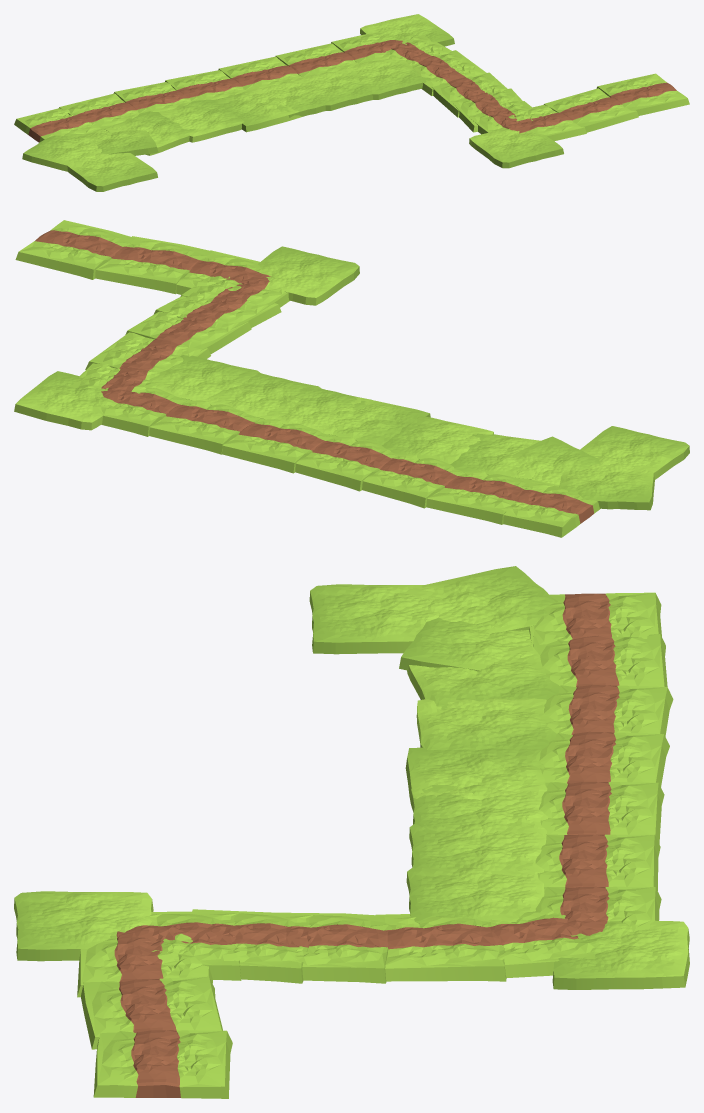
File: pathTest.glb
3 renders of one model, top to bottom at view 1: azimuth 30°, elevation 25°; view 2: azimuth 150°, elevation 25°; view 3: azimuth 270°, elevation 25°, orthographic. The views are drawn at different scales.
Visible parts, largest first — view 1: PP_Meadow_08.012, PP_Meadow_08.011, PP_Meadow_Path_05.038, PP_Meadow_Path_05.037, PP_Meadow_08.007, PP_Meadow_08.003, PP_Meadow_08.006, PP_Meadow_08.010, PP_Meadow_08.004, PP_Meadow_Path_05.024, PP_Meadow_08.002, PP_Meadow_Path_05.029 (+14 smaller); view 2: PP_Meadow_Path_05.038, PP_Meadow_Path_05.037, PP_Meadow_08.012, PP_Meadow_Path_05.029, PP_Meadow_Path_05.028, PP_Meadow_Path_05.024, PP_Meadow_08.002, PP_Meadow_Path_05.025, PP_Meadow_08.010, PP_Meadow_Path_05.027, PP_Meadow_08.011, PP_Meadow_Path_05.026 (+14 smaller); view 3: PP_Meadow_Path_05.038, PP_Meadow_08.011, PP_Meadow_08.012, PP_Meadow_08.002, PP_Meadow_Path_05.031, PP_Meadow_Path_05.037, PP_Meadow_08.007, PP_Meadow_08.003, PP_Meadow_Path_05.028, PP_Meadow_Path_05.033, PP_Meadow_Path_05.029, PP_Meadow_Path_05.027 (+14 smaller).
Part boxes in pixels (x1,y1,x2,y2): PP_Meadow_08.012: [469, 129, 563, 168]; PP_Meadow_08.011: [67, 153, 157, 191]; PP_Meadow_Path_05.038: [596, 73, 689, 115]; PP_Meadow_Path_05.037: [543, 88, 638, 132]; PP_Meadow_08.007: [159, 99, 244, 142]; PP_Meadow_08.003: [344, 58, 430, 99]; PP_Meadow_08.006: [214, 88, 301, 132]; PP_Meadow_08.010: [22, 133, 102, 171]; PP_Meadow_08.004: [296, 67, 373, 110]; PP_Meadow_Path_05.024: [14, 108, 102, 142]; PP_Meadow_08.002: [360, 14, 454, 46]; PP_Meadow_Path_05.029: [275, 43, 358, 76]; PP_Meadow_Path_05.038: [15, 220, 135, 279]; PP_Meadow_Path_05.037: [95, 236, 212, 294]; PP_Meadow_08.012: [258, 246, 359, 305]; PP_Meadow_Path_05.029: [149, 400, 260, 454]; PP_Meadow_Path_05.028: [222, 418, 334, 473]; PP_Meadow_Path_05.024: [500, 480, 600, 537]; PP_Meadow_08.002: [14, 371, 116, 430]; PP_Meadow_Path_05.025: [426, 471, 544, 524]; PP_Meadow_08.010: [559, 463, 654, 510]; PP_Meadow_Path_05.027: [295, 436, 399, 491]; PP_Meadow_08.011: [580, 426, 689, 479]; PP_Meadow_Path_05.026: [362, 454, 465, 508]; PP_Meadow_Path_05.038: [93, 1030, 232, 1098]; PP_Meadow_08.011: [309, 584, 439, 654]; PP_Meadow_08.012: [14, 891, 153, 961]; PP_Meadow_08.002: [552, 920, 689, 989]; PP_Meadow_Path_05.031: [376, 914, 506, 981]; PP_Meadow_Path_05.037: [81, 976, 222, 1049]; PP_Meadow_08.007: [416, 698, 556, 750]; PP_Meadow_08.003: [406, 867, 544, 923]; PP_Meadow_Path_05.028: [539, 782, 664, 844]; PP_Meadow_Path_05.033: [275, 912, 390, 983]; PP_Meadow_Path_05.029: [535, 834, 660, 890]; PP_Meadow_Path_05.027: [539, 731, 669, 786].
Bounding box in the file's own units: 208 × 4.15 × 114.
1 material, 1 textured.
